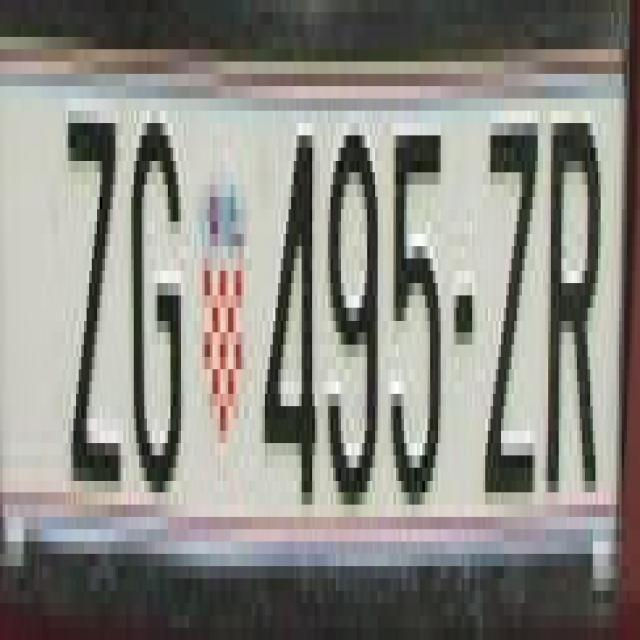4: (262, 111, 320, 517)
5: (383, 123, 443, 505)
9: (333, 111, 378, 517)
G: (129, 111, 186, 517)
Z: (63, 99, 121, 468), (480, 135, 538, 492)
